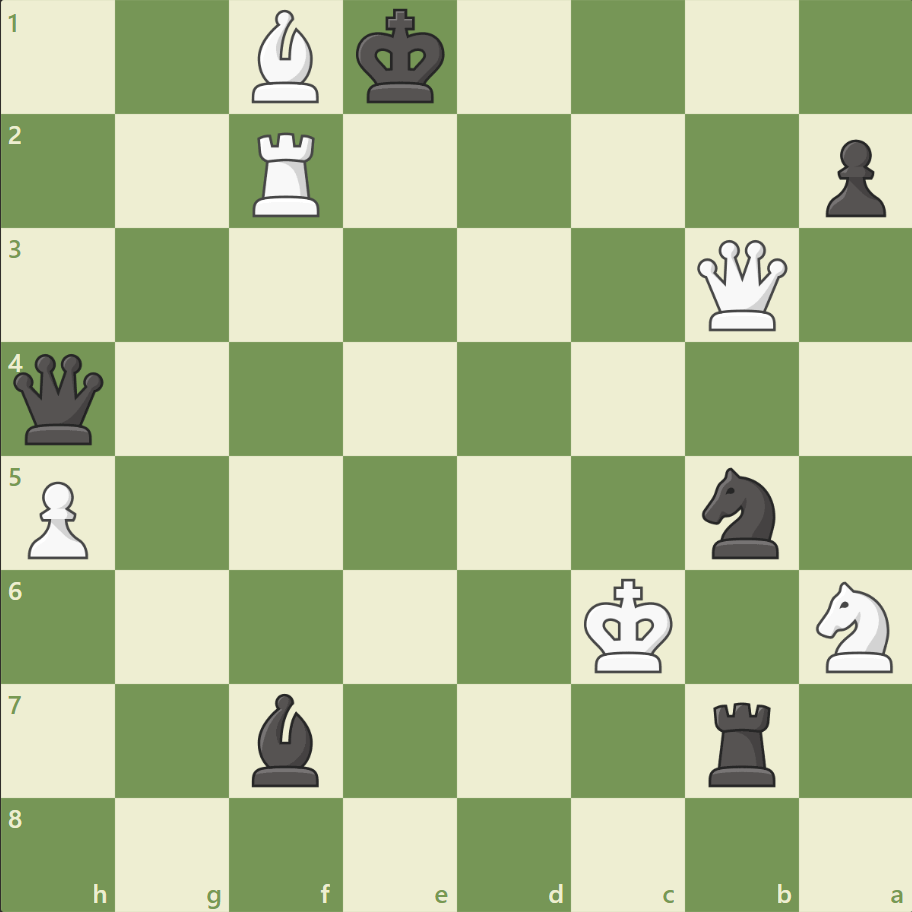B: (251, 12, 330, 115)
K: (582, 580, 680, 682)
N: (814, 581, 903, 682)
P: (28, 476, 100, 560)
Q: (695, 240, 796, 341)
R: (251, 127, 330, 227)
b: (251, 693, 330, 796)
k: (355, 13, 453, 114)
n: (700, 467, 789, 568)
p: (823, 135, 895, 220)
q: (14, 353, 115, 455)
r: (706, 694, 784, 794)
